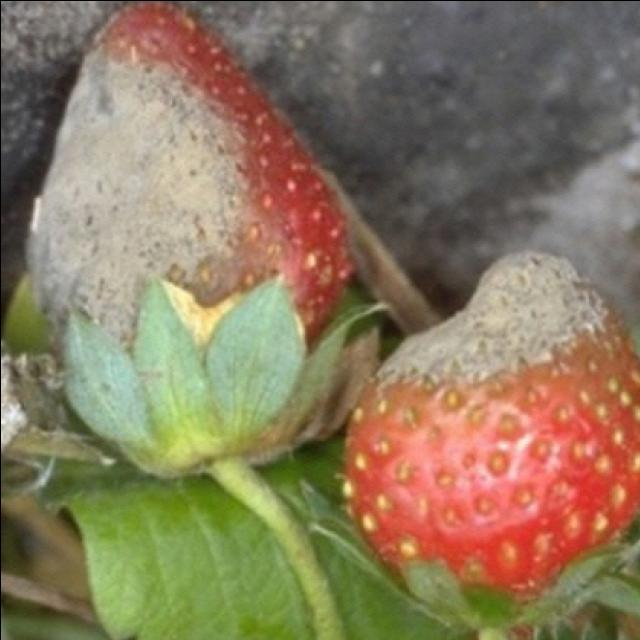Gray Mold: (19, 8, 294, 441), (362, 246, 629, 404)
